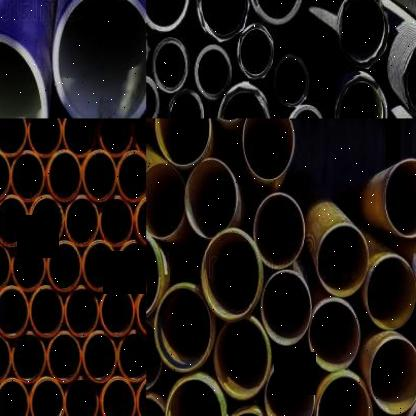pipe: (51, 0, 146, 118), (201, 230, 260, 321), (154, 286, 213, 373), (213, 319, 271, 400), (184, 158, 237, 239), (0, 30, 47, 118), (254, 193, 304, 269), (261, 272, 312, 346), (366, 256, 416, 330), (318, 225, 369, 296), (309, 301, 360, 371), (370, 338, 416, 415), (338, 0, 389, 68), (242, 118, 293, 182), (146, 163, 186, 239), (265, 361, 315, 416), (156, 118, 210, 166), (384, 158, 416, 237), (315, 375, 373, 416), (165, 378, 223, 416), (236, 23, 274, 79), (196, 0, 249, 40), (334, 78, 387, 118), (152, 37, 189, 93), (195, 44, 231, 100), (217, 82, 273, 118), (274, 54, 310, 107), (64, 285, 100, 338), (64, 195, 100, 247), (83, 239, 118, 292), (47, 331, 82, 384), (82, 150, 118, 201), (82, 330, 116, 384), (12, 240, 47, 292), (47, 240, 82, 292), (48, 149, 82, 202), (100, 284, 134, 337), (29, 196, 64, 247), (30, 286, 64, 338), (12, 332, 46, 384), (11, 151, 45, 202), (100, 196, 134, 247), (0, 285, 29, 338), (116, 240, 146, 291), (0, 195, 29, 247), (118, 150, 146, 202), (118, 331, 146, 383), (98, 118, 133, 158), (64, 376, 99, 416), (249, 0, 304, 25), (101, 377, 136, 416), (30, 377, 65, 416), (146, 0, 190, 31), (28, 118, 62, 158), (62, 118, 96, 158), (146, 229, 160, 320), (146, 318, 162, 392), (401, 43, 416, 118), (0, 378, 29, 416), (168, 89, 204, 118), (0, 118, 27, 156), (0, 239, 11, 292), (0, 331, 11, 384), (146, 76, 159, 118), (136, 284, 146, 337), (136, 195, 146, 247), (0, 150, 10, 201), (288, 105, 326, 118), (134, 118, 146, 158), (137, 375, 146, 416), (220, 412, 277, 416)
